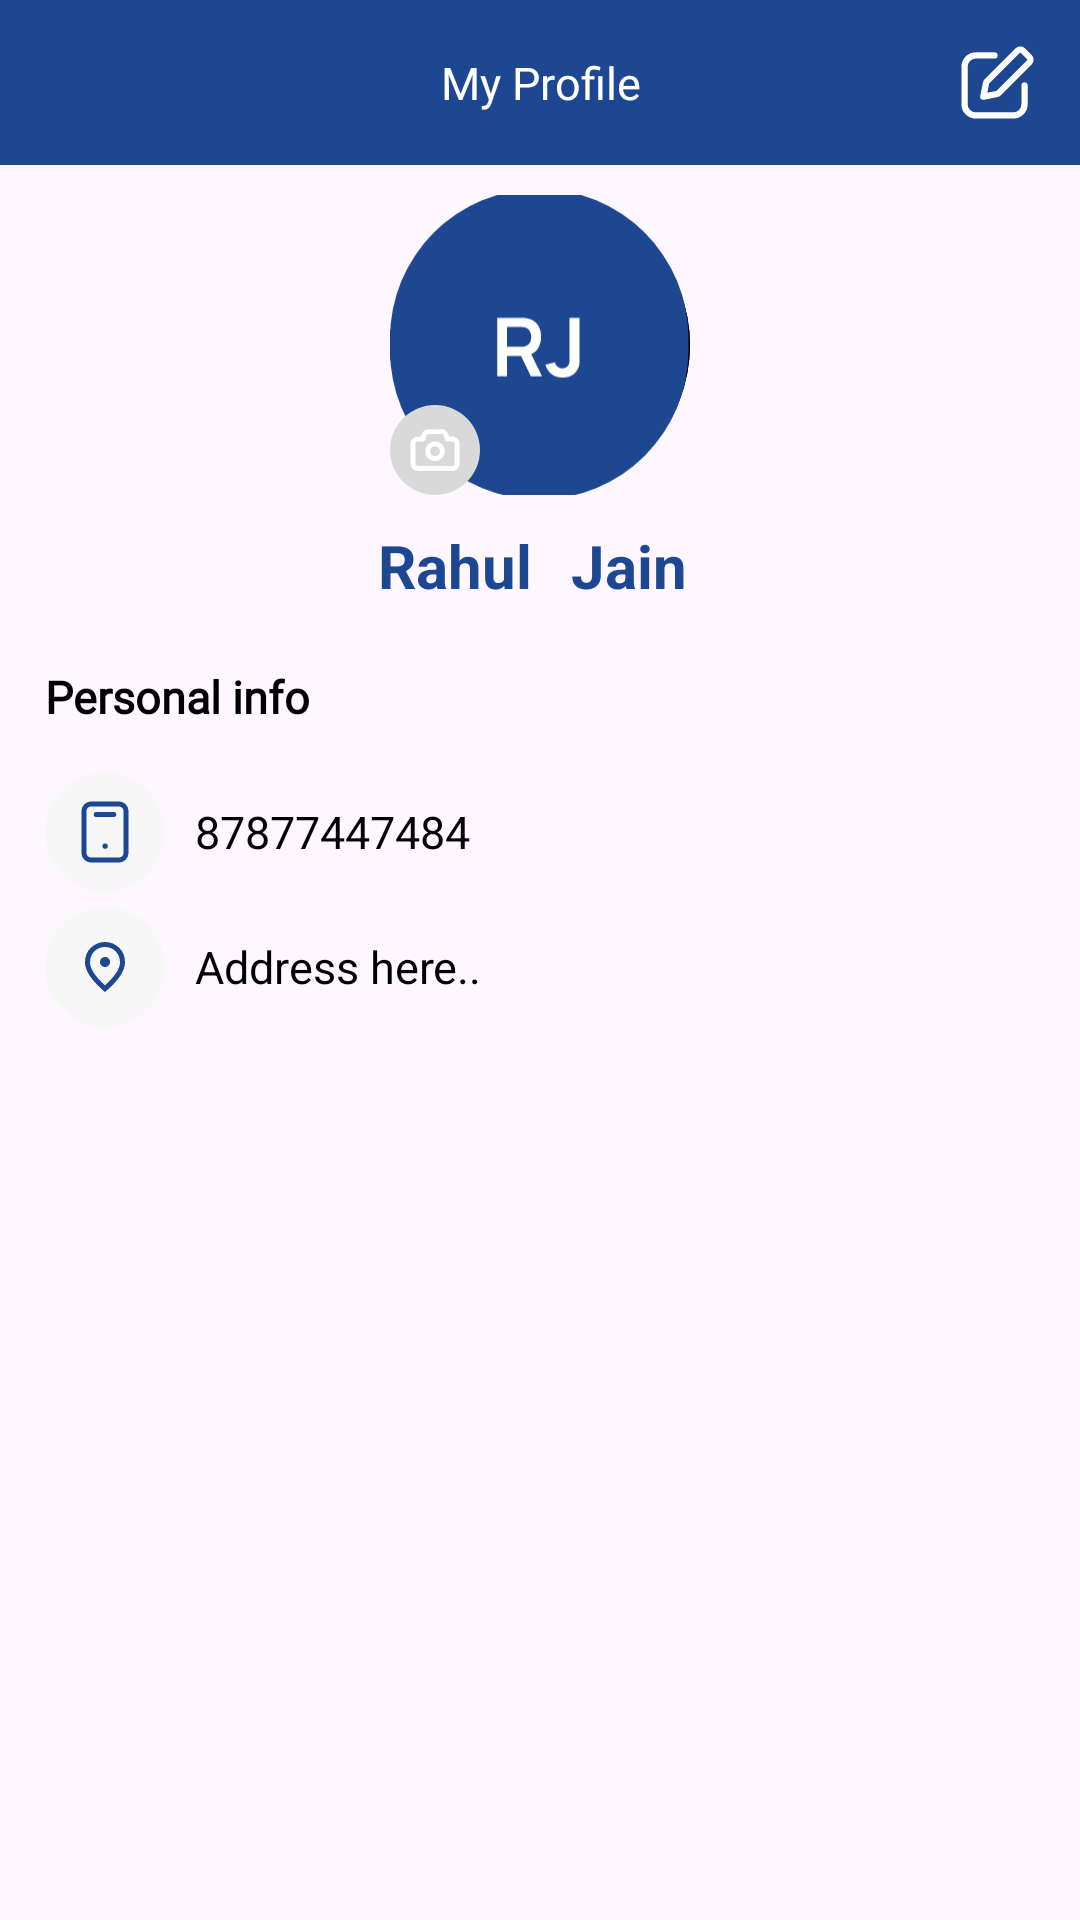

Screen size 1080px x 1920px. Icon name, then its box in pixels as Rect(x1, y1, x2, y2):
edit pro: Rect(961, 46, 1034, 119)
location: Rect(85, 942, 125, 992)
